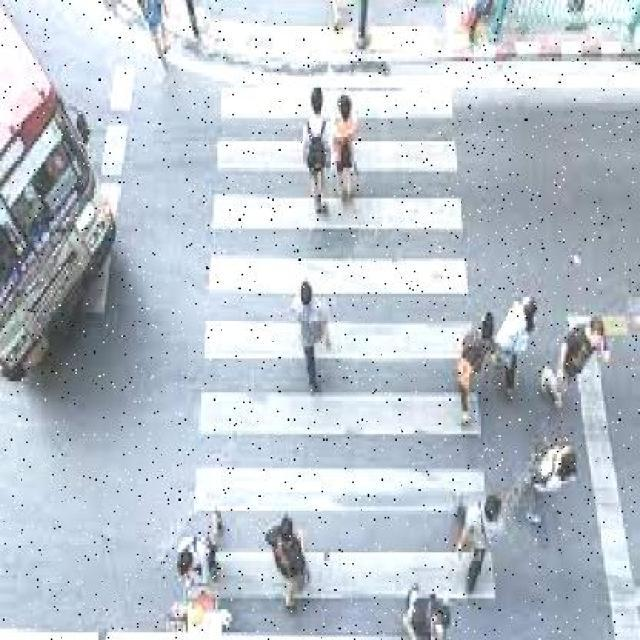crosswalk: (187, 62, 502, 637)
